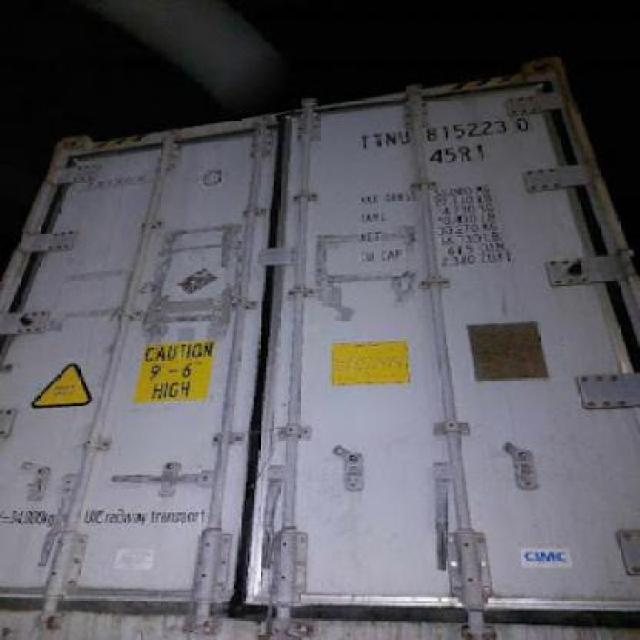ISO: (430, 144, 484, 164)
container_number: (358, 112, 532, 152)
